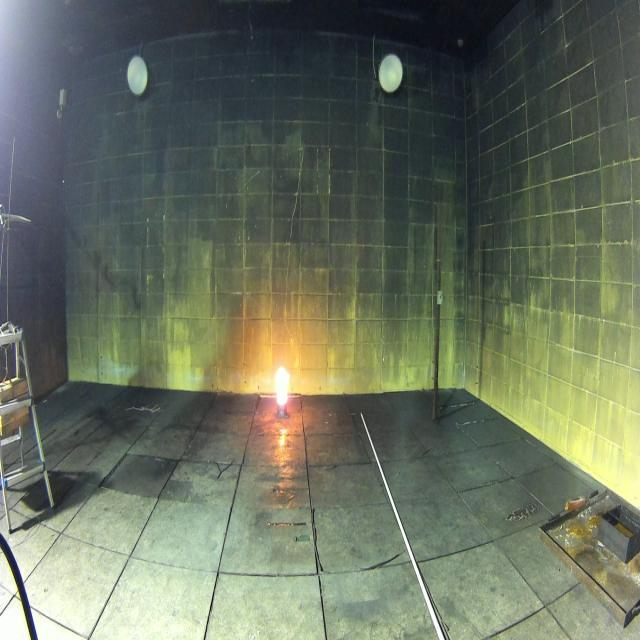Fire: (276, 366, 290, 406)
